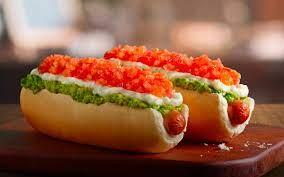Completos: (12, 52, 186, 151), (100, 34, 246, 140)
